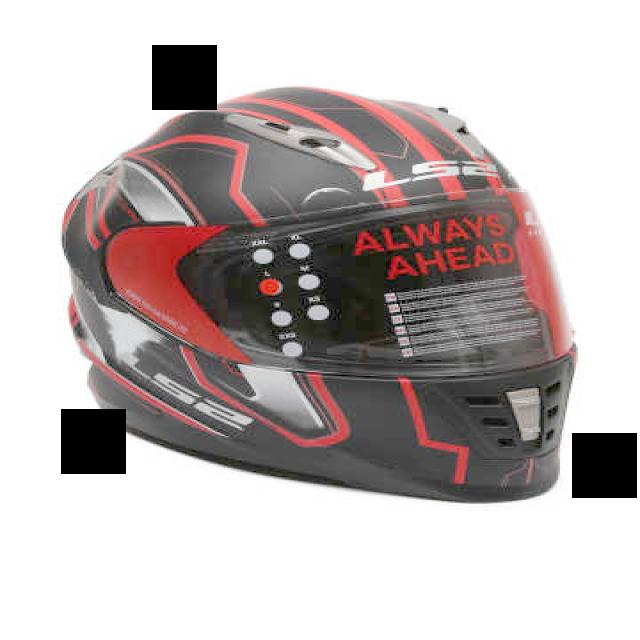Helmet: (4, 3, 629, 640)
